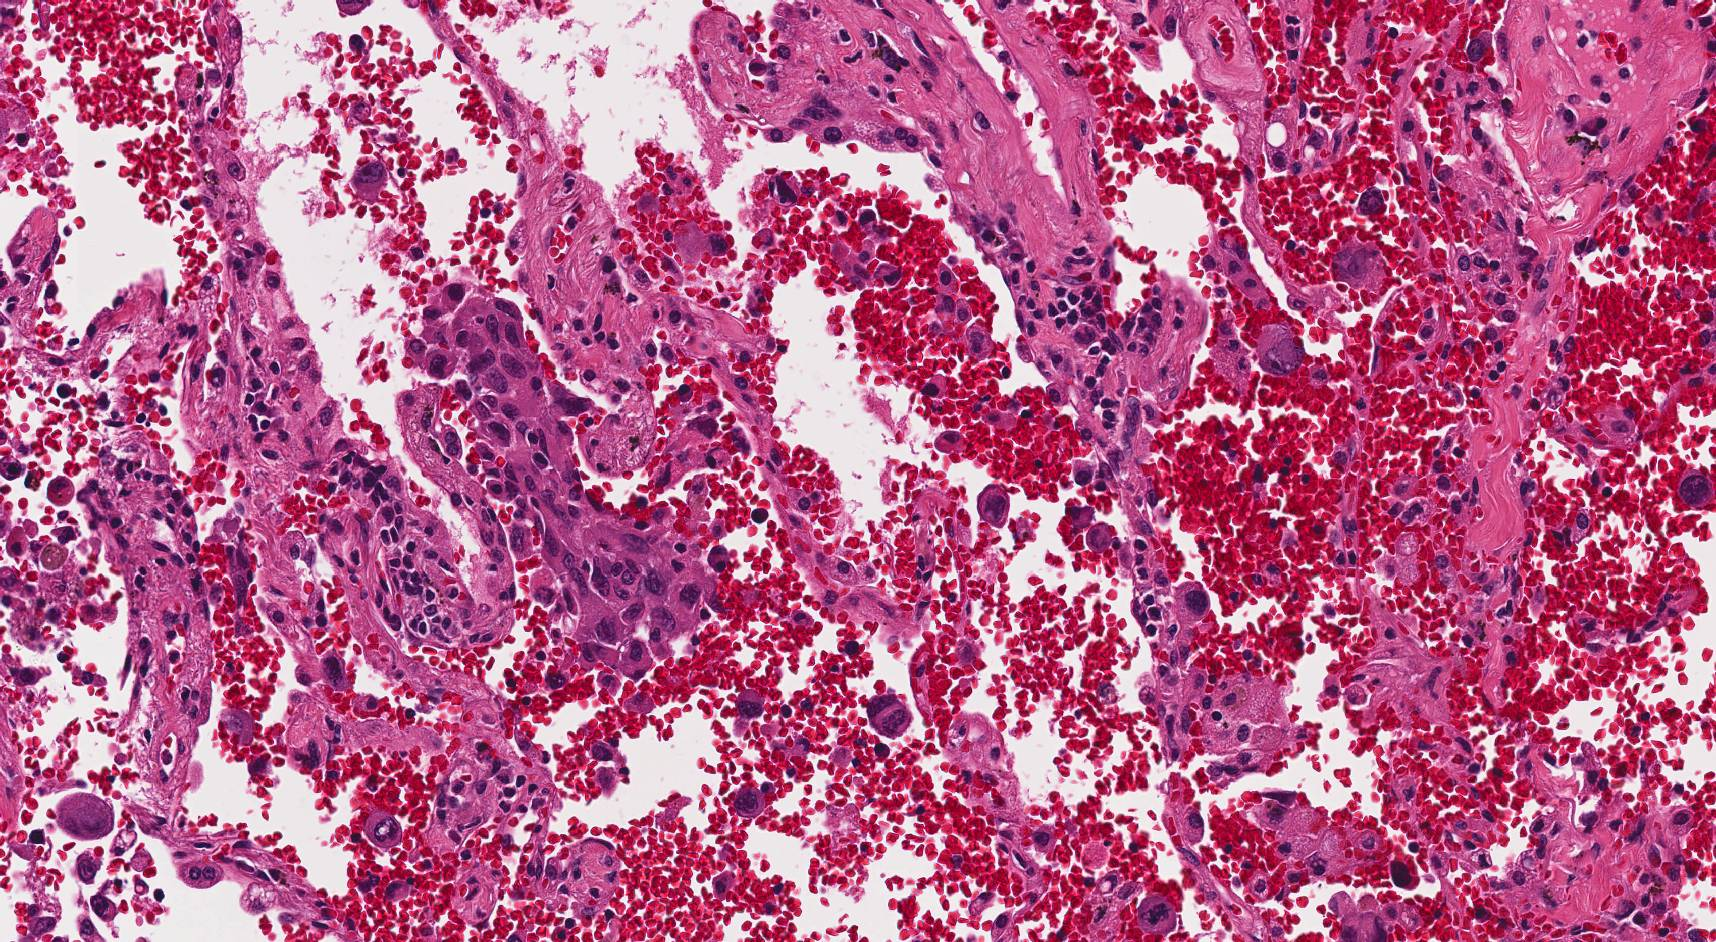stas: (401, 284, 716, 680)
